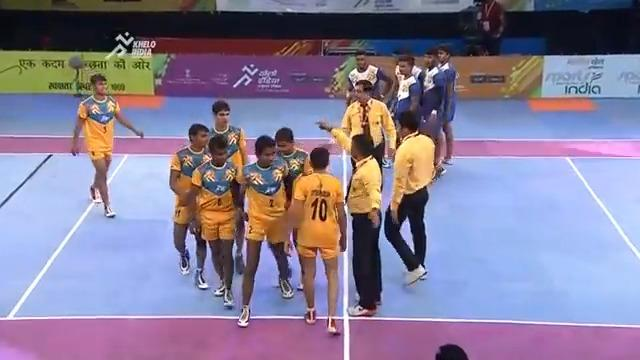Player: (286, 146, 347, 334), (235, 134, 294, 327), (70, 73, 144, 217), (189, 134, 244, 308), (383, 109, 437, 285), (204, 99, 248, 275), (344, 133, 383, 316), (168, 123, 211, 287), (271, 127, 312, 291), (415, 49, 447, 177), (434, 45, 458, 164), (344, 48, 392, 106)
referee: (316, 79, 397, 305), (338, 79, 396, 192)
